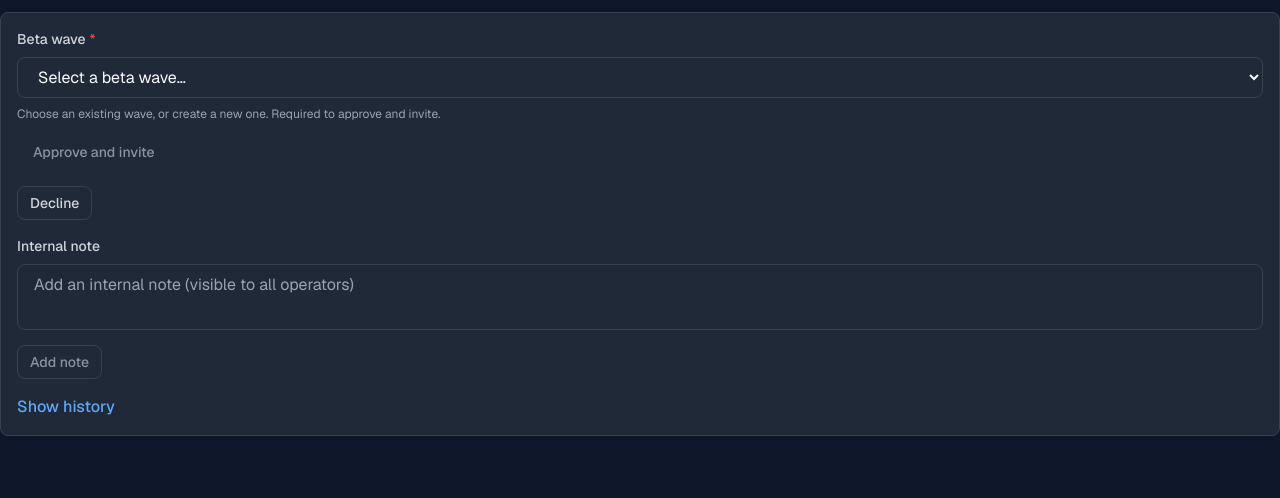
Test: AccessRequestActionsPanel — approve and invite › submits the chosen wave and shows an honest delivery disposition on success
The image size is (1280, 498).
Select "Wave 1" in the dropdown with test id "ar_1-wave-select" at (640, 78), box [17,57,1263,98]
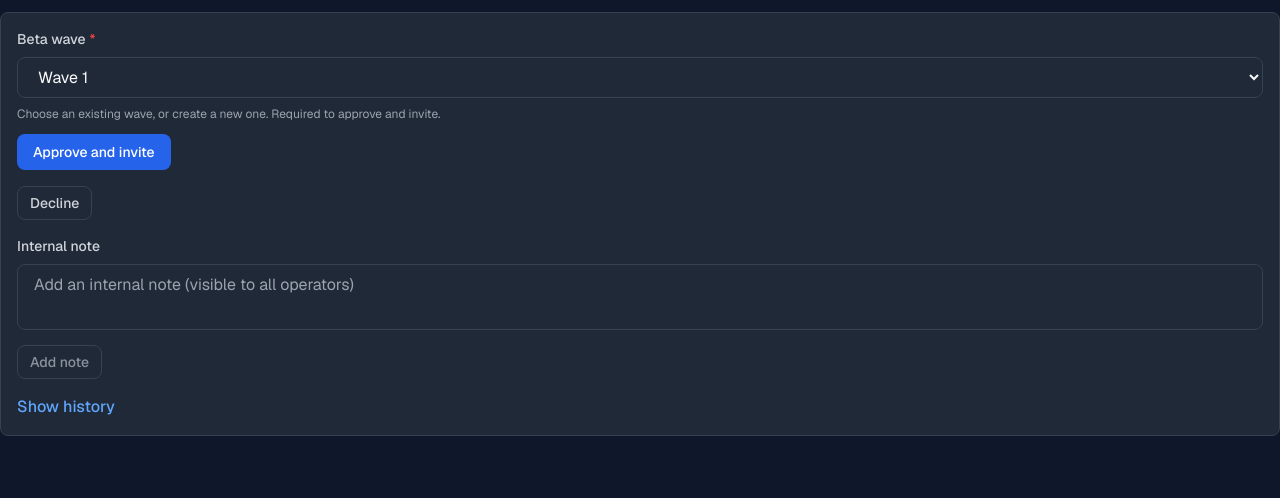
Now the button "Approve and invite" is enabled
Click the button "Approve and invite" at (94, 152), box [17,134,171,170]
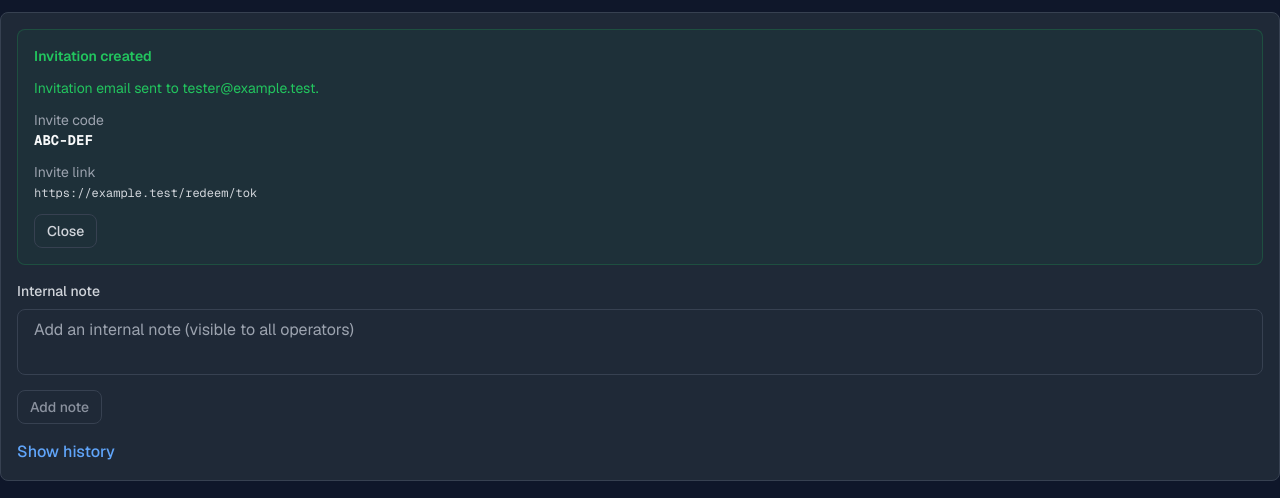
Now the element with test id "access-request-convert-success" is shown, box [17,29,1263,265]
Now the text "Invitation email sent to tester@example.test" is shown, box [34,79,319,97]
